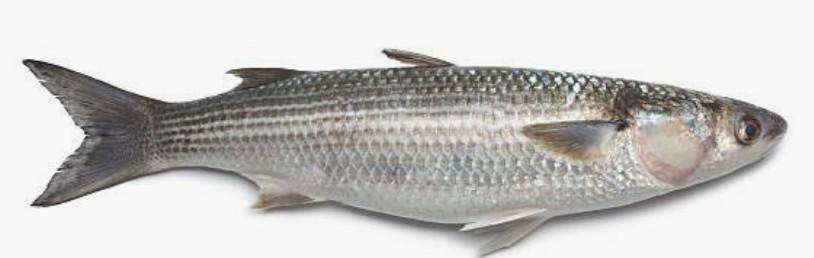fish: (21, 49, 793, 256)
